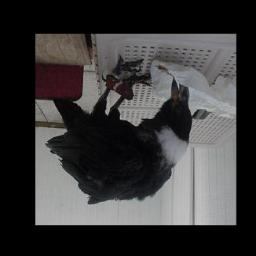Crow: (45, 55, 195, 206)
